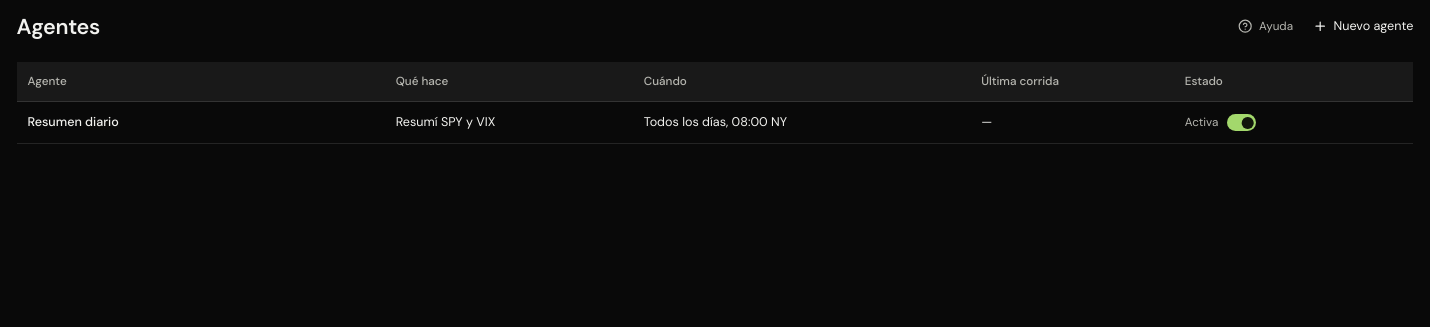
Test: el detalle de un agente en la nube muestra sus corridas del back, con resumen y link a la sesión
Click the button "Resumen diario" at [73, 122], box [27,114,119,130]
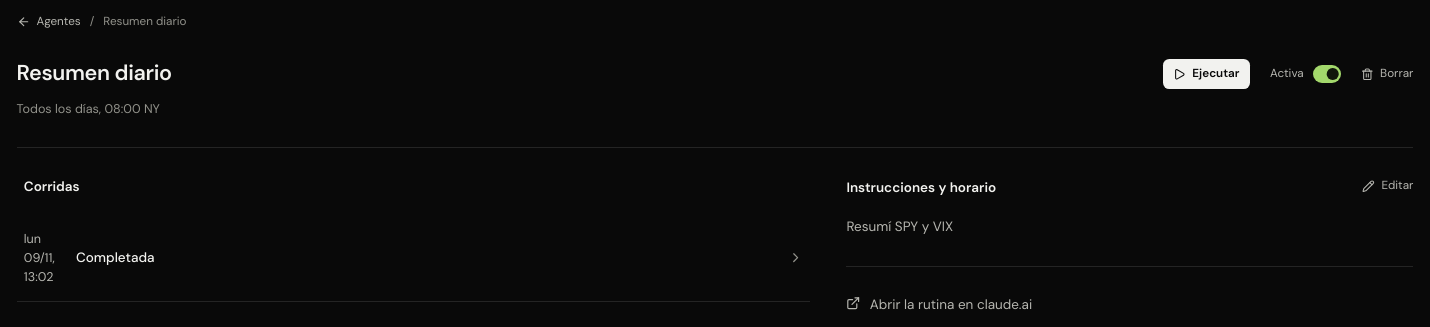
Now the text "Completada" is shown, box [76,249,155,266]
